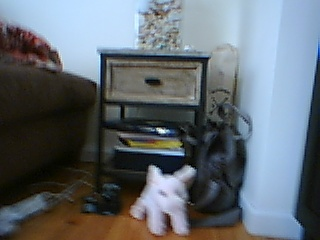piggy: (128, 162, 199, 237)
